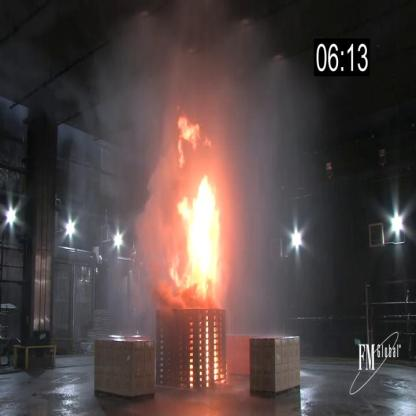fire: (168, 174, 224, 304), (166, 108, 218, 164)
